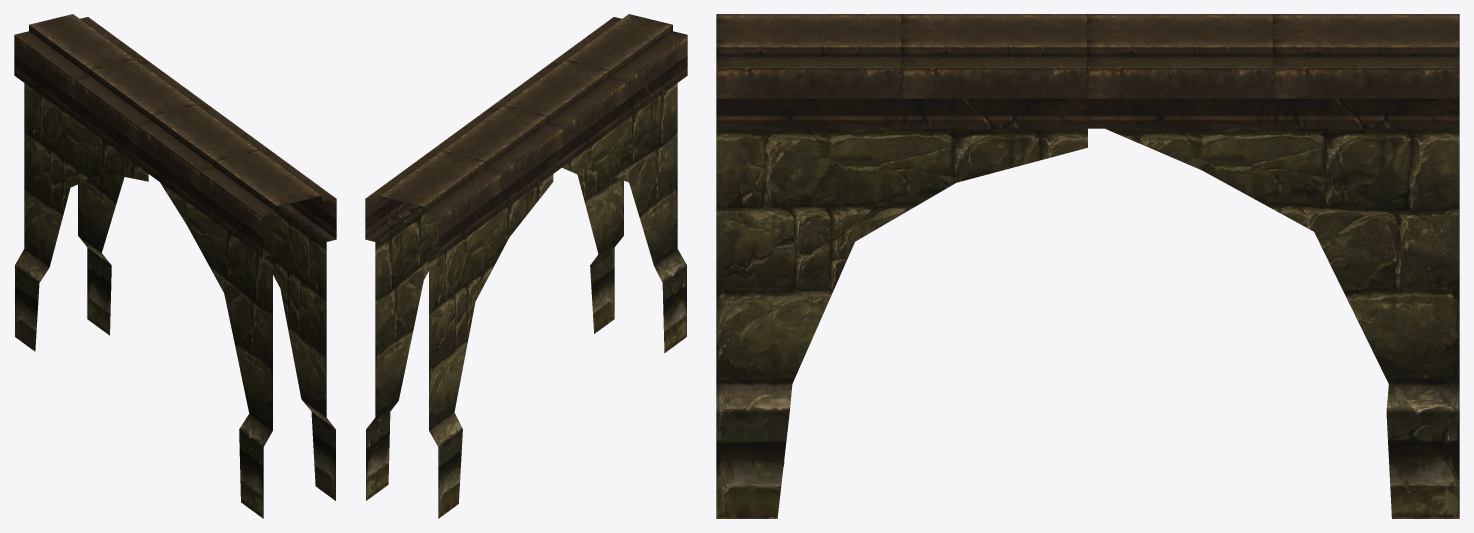
Rendered from Stage001_WALL_01.FBX.
3 views of the same model, side by side, from view 1: azimuth 30°, elevation 25°; view 2: azimuth 150°, elevation 25°; view 3: azimuth 270°, elevation 25° (orthographic). The views are drawn at different scales.
Parts seen in each view (by area): view 1: Stage001_WALL_01; view 2: Stage001_WALL_01; view 3: Stage001_WALL_01.
Part boxes in pixels (x1,y1,x2,y2): Stage001_WALL_01: (14,14,336,518); Stage001_WALL_01: (365,14,687,518); Stage001_WALL_01: (716,14,1459,518).
Bounding box in the file's own units: 172 × 685 × 1000.
Materials: 1 (1 with a texture image).
